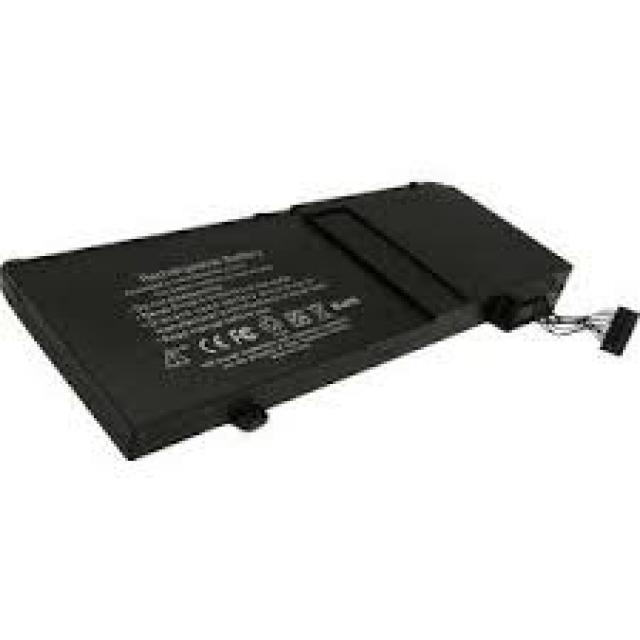hazard: (0, 175, 635, 452)
